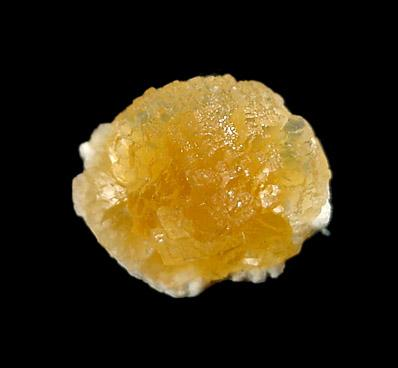prehnite: (71, 74, 332, 300)
